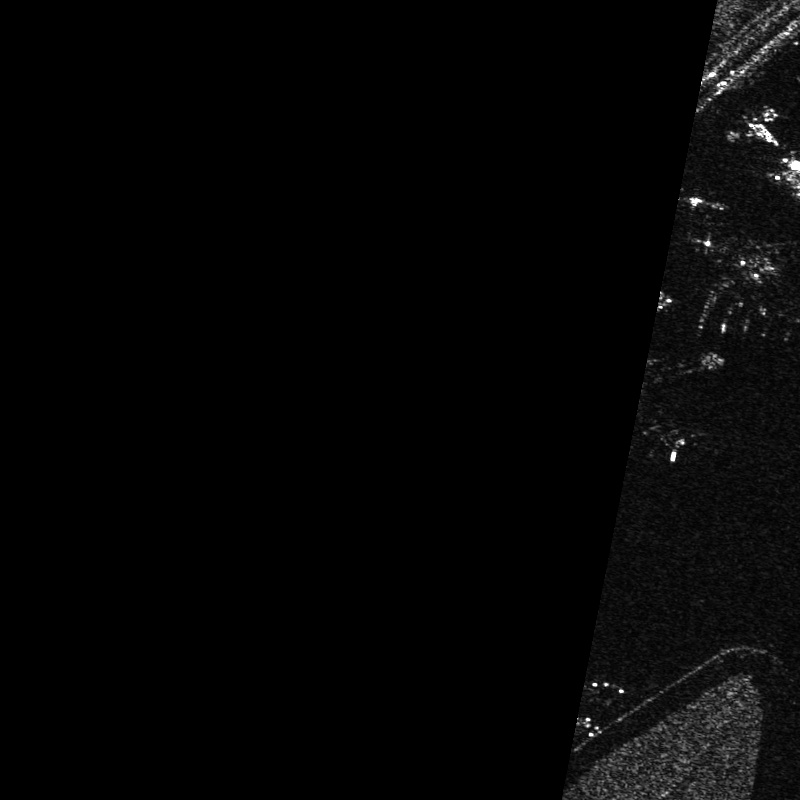Boeing787: (695, 233, 799, 347)
